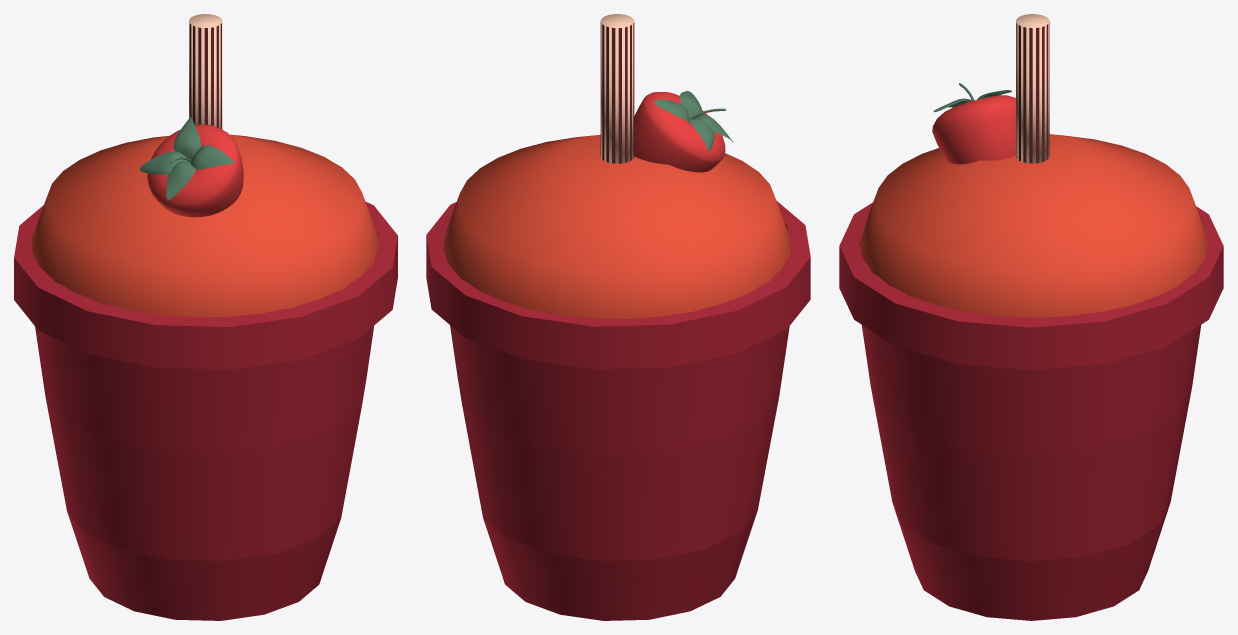
File: shake-truskawka.gltf
3 renders of one model, left to right at view 1: azimuth 30°, elevation 25°; view 2: azimuth 150°, elevation 25°; view 3: azimuth 270°, elevation 25°, orthographic.
Visible parts, largest first — view 1: Cylinder, Cylinder.001, Sphere, Cylinder.002, Circle; view 2: Cylinder, Cylinder.001, Cylinder.002, Sphere, Circle; view 3: Cylinder, Cylinder.001, Cylinder.002, Sphere.
Part boxes in pixels (x1,y1,x2,y2): Cylinder: (14,201,397,620); Cylinder.001: (31,134,378,317); Sphere: (147,124,243,217); Cylinder.002: (189,14,222,128); Circle: (139,117,234,199); Cylinder: (426,200,810,620); Cylinder.001: (443,134,790,318); Cylinder.002: (600,14,634,163); Sphere: (634,92,725,172); Circle: (654,91,733,151); Cylinder: (839,202,1223,620); Cylinder.001: (859,134,1207,317); Cylinder.002: (1016,14,1049,163); Sphere: (932,95,1015,164).
Bounding box in the file's own units: 1.37 × 2.21 × 1.36.
Materials: 1 (1 with a texture image).
